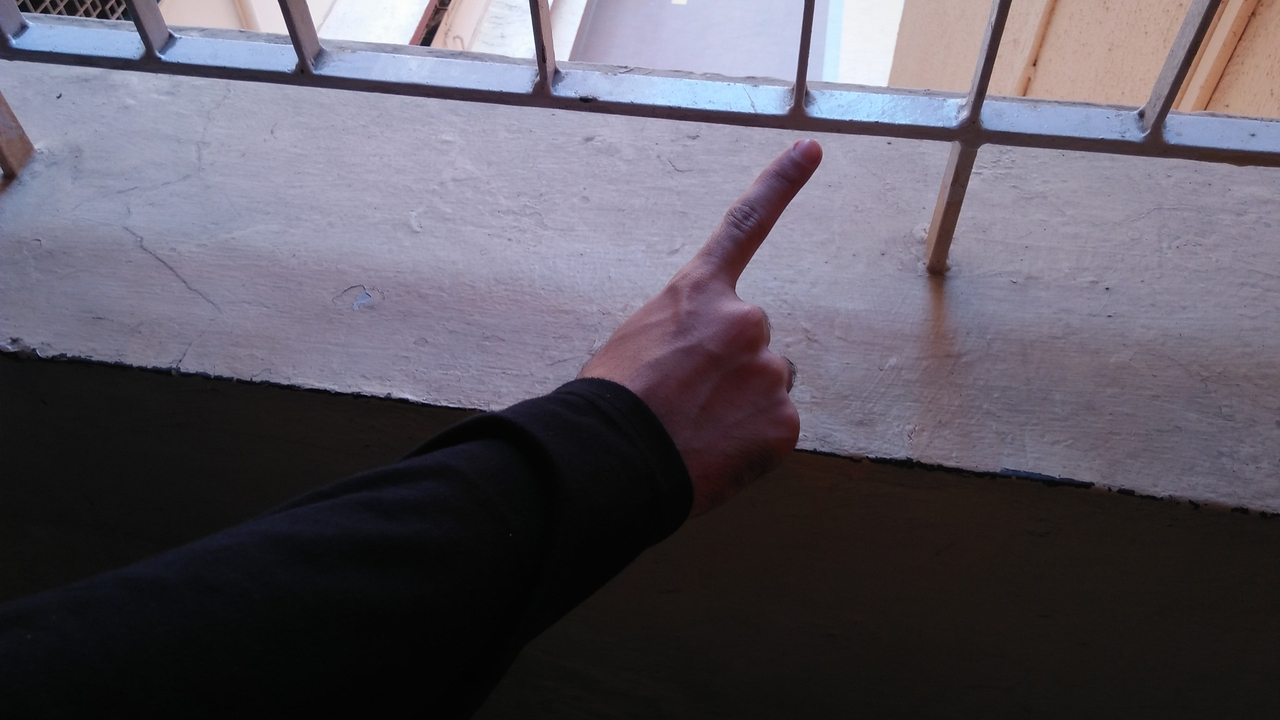fingertip: (776, 124, 830, 174)
